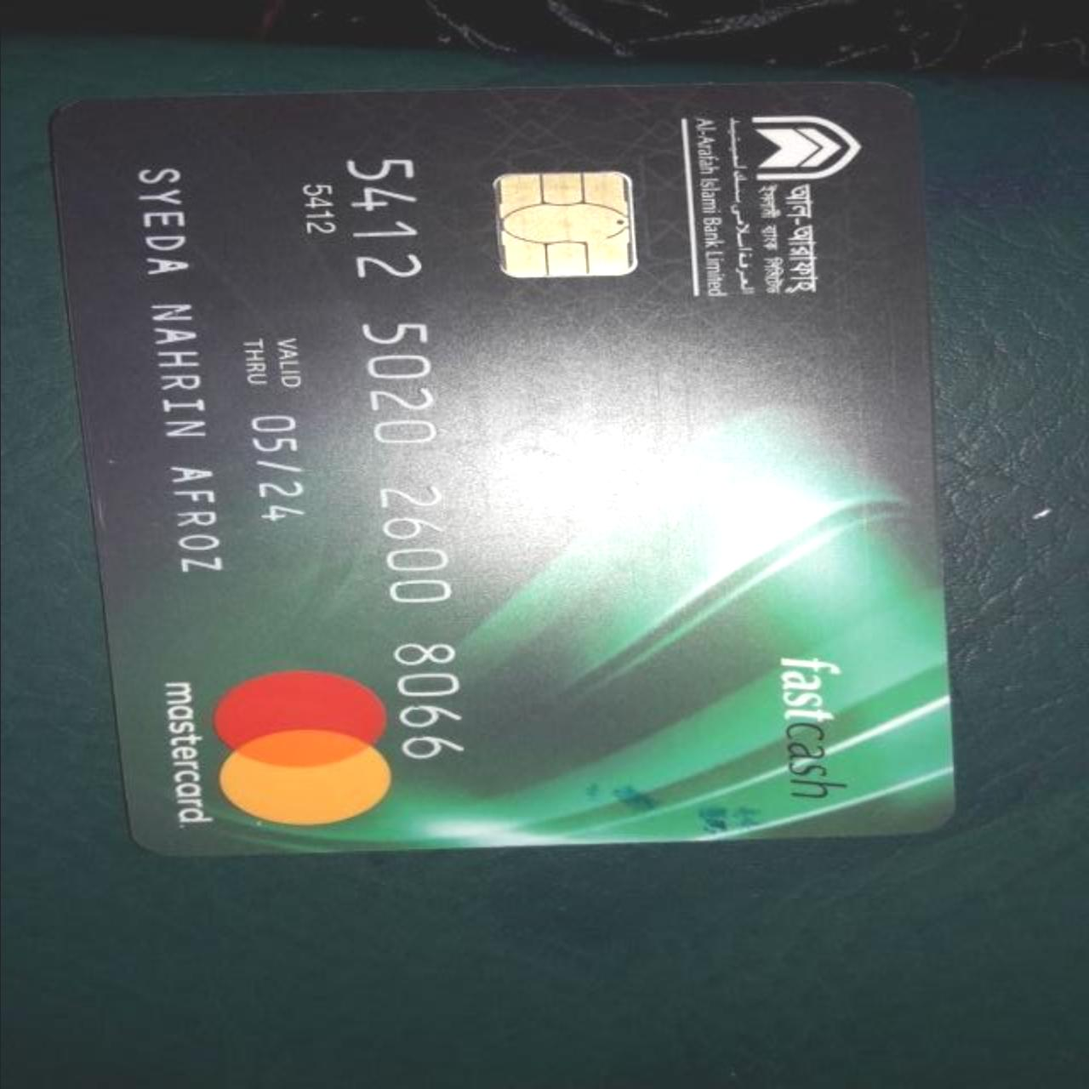credit_card: (41, 85, 960, 868)
